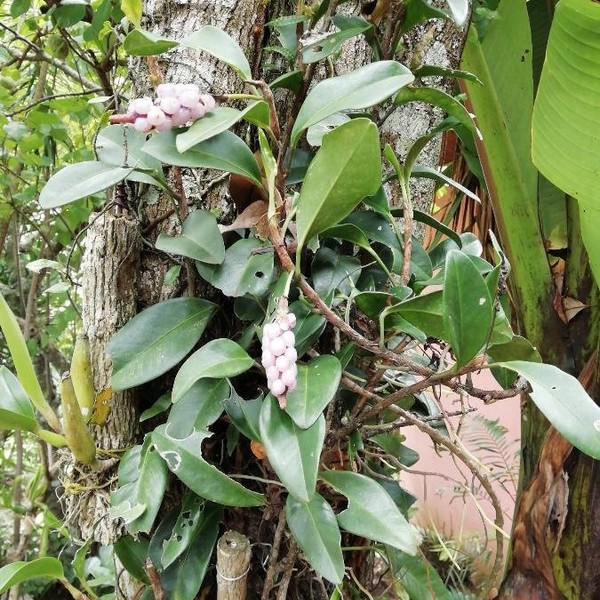obstacle: (49, 82, 436, 559)
